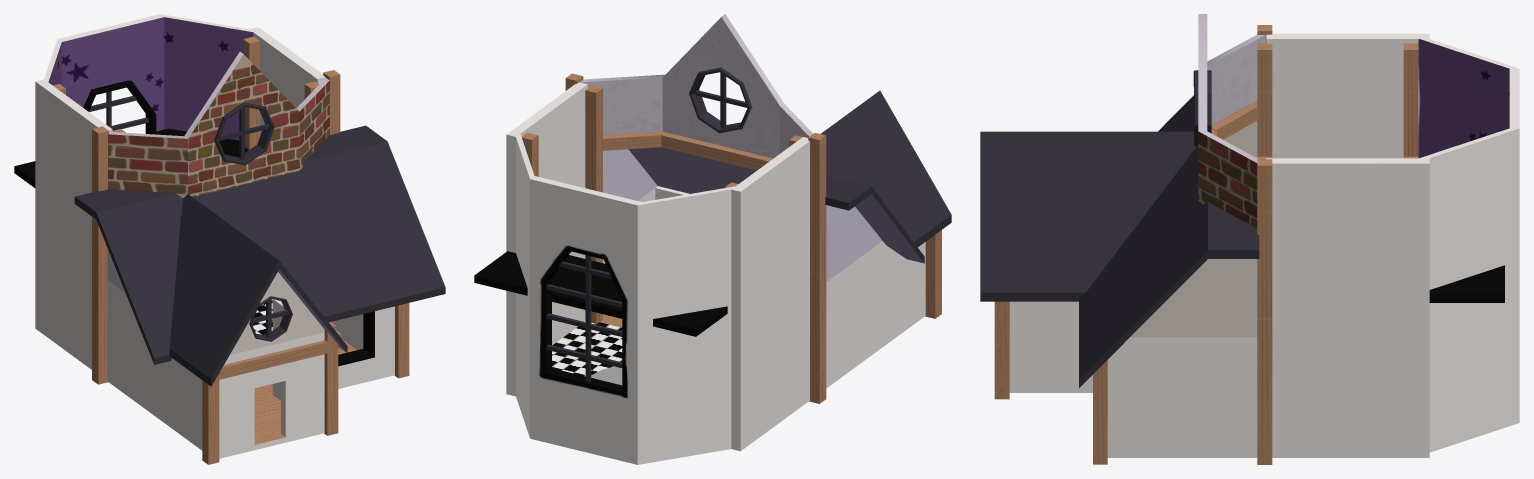
3 views of the same model, side by side, from view 1: azimuth 30°, elevation 25°; view 2: azimuth 150°, elevation 25°; view 3: azimuth 270°, elevation 25° (orthographic). The views are drawn at different scales.
Visible parts, largest first — view 1: floor, roof_front_long, front_wall, roof_front, roof_front_short, collum4, roof_window, collum10, collum7, collum8, collum6, collum1 (+4 smaller); view 2: floor, front_wall, roof_front, second_floor, collum4, roof_front_long, roof_front_short, wall_triangle_left, window_frame_large, collum2, wall_triangle, collum11 (+4 smaller); view 3: floor, roof_front, roof_front_long, front_wall, wall_triangle, collum5, second_floor, collum, collum3, collum8, collum6, collum13 (+2 smaller).
Boxes of the visible parts, bbox=[...] form: floor: bbox=[35, 14, 394, 458]; roof_front_long: bbox=[193, 125, 445, 322]; front_wall: bbox=[108, 51, 329, 197]; roof_front: bbox=[169, 194, 347, 386]; roof_front_short: bbox=[74, 189, 182, 364]; collum4: bbox=[92, 126, 108, 384]; roof_window: bbox=[230, 272, 324, 354]; collum10: bbox=[219, 340, 327, 379]; collum7: bbox=[202, 373, 219, 464]; collum8: bbox=[324, 330, 338, 435]; collum6: bbox=[394, 303, 409, 378]; collum1: bbox=[243, 36, 259, 149]; floor: bbox=[506, 82, 925, 464]; front_wall: bbox=[580, 14, 812, 158]; roof_front: bbox=[821, 90, 951, 247]; second_floor: bbox=[474, 251, 727, 336]; collum4: bbox=[808, 132, 826, 403]; roof_front_long: bbox=[628, 147, 756, 193]; roof_front_short: bbox=[825, 175, 924, 263]; wall_triangle_left: bbox=[826, 205, 882, 281]; window_frame_large: bbox=[546, 255, 622, 382]; collum2: bbox=[585, 85, 602, 323]; wall_triangle: bbox=[603, 149, 657, 200]; collum11: bbox=[656, 131, 773, 170]; floor: bbox=[1009, 33, 1519, 457]; roof_front: bbox=[980, 131, 1196, 301]; roof_front_long: bbox=[1079, 146, 1259, 387]; front_wall: bbox=[1193, 14, 1265, 228]; wall_triangle: bbox=[1130, 259, 1257, 337]; collum5: bbox=[1257, 159, 1272, 464]; second_floor: bbox=[1429, 265, 1504, 302]; collum: bbox=[1403, 43, 1418, 156]; collum3: bbox=[1257, 43, 1272, 156]; collum8: bbox=[994, 301, 1009, 399]; collum6: bbox=[1093, 360, 1107, 464]; collum13: bbox=[1211, 101, 1258, 139].
Size of the model in its own units: 1584 by 1637 by 2105.
